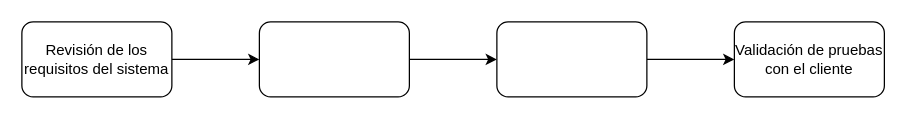
This 906x119 diagram has some shape labels left out. Each missing label, with the centre of its shape:
Definición del plan de pruebas.: (x=333, y=59)
Ejecutar el plan de pruebas: (x=571, y=59)
